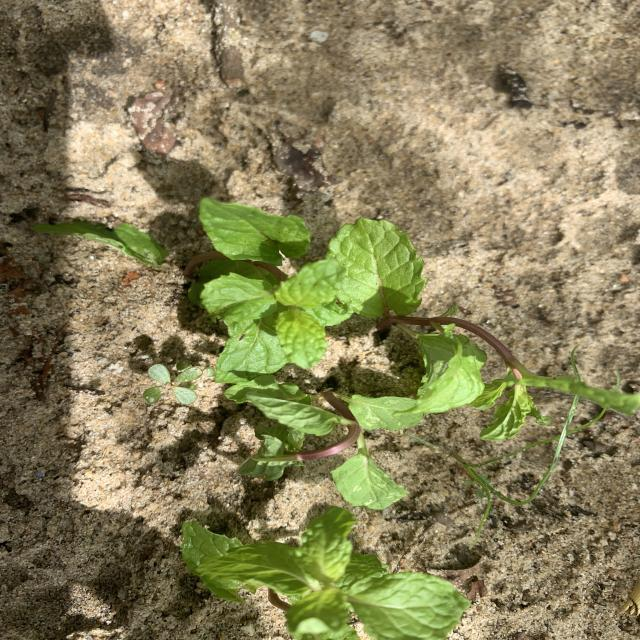crop: (329, 218, 640, 440), (33, 198, 349, 383), (181, 506, 469, 640), (225, 375, 419, 509)
weed: (453, 397, 606, 543), (142, 361, 203, 405)
